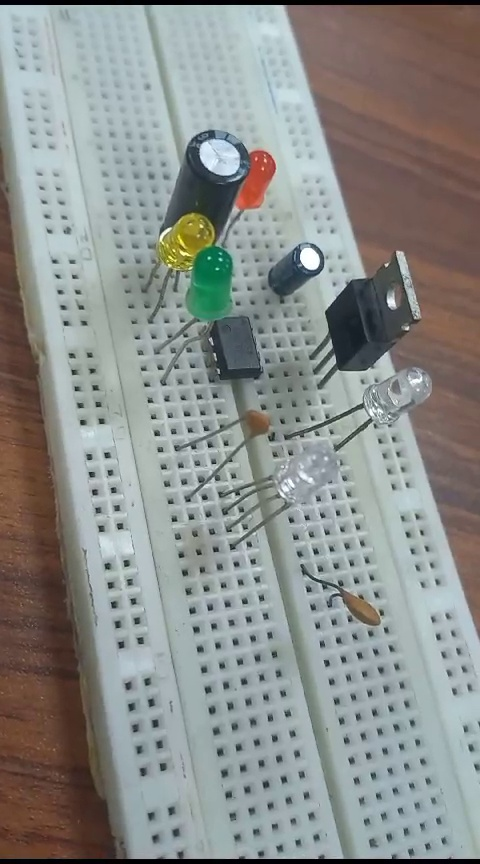IC: (212, 309, 267, 387)
LED: (246, 447, 332, 563), (338, 372, 458, 428), (192, 251, 238, 316), (167, 209, 211, 265), (252, 148, 278, 212)
capacitor: (176, 124, 238, 232), (259, 249, 327, 283)
ceramic capacitor: (283, 572, 407, 644), (171, 409, 267, 475)
voltage regulator: (316, 243, 398, 385)
